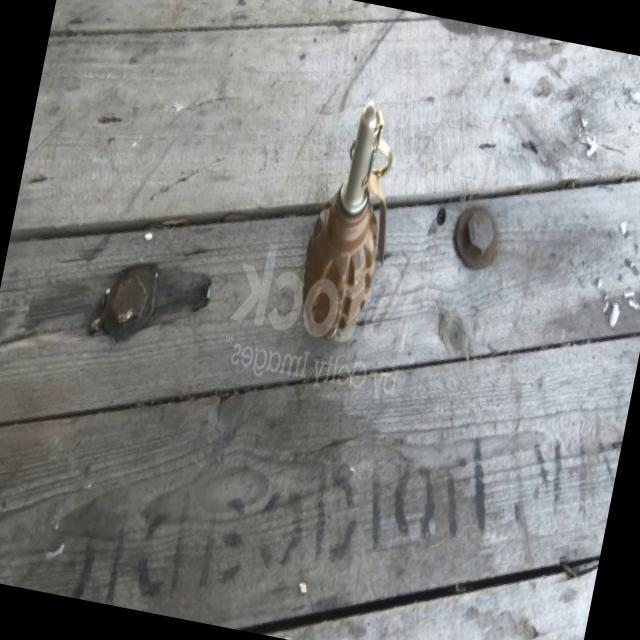grenade: (291, 102, 413, 341)
